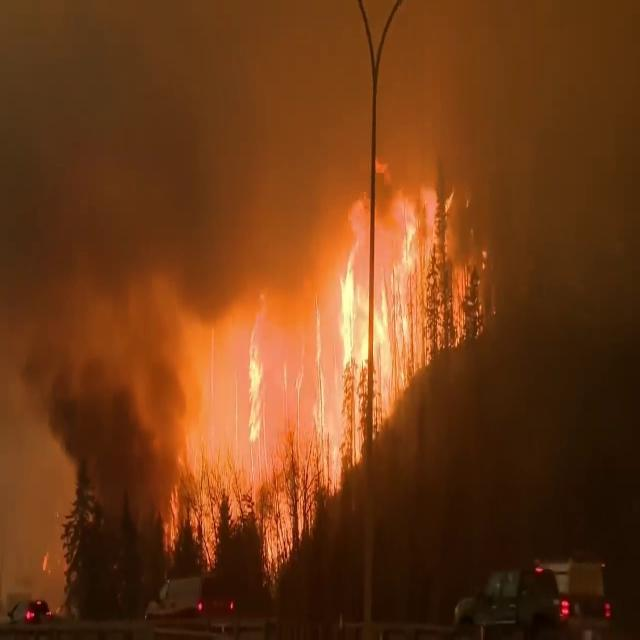Fire: (321, 156, 484, 464), (161, 281, 337, 553)
Smoke: (0, 0, 363, 344), (430, 2, 640, 480)
